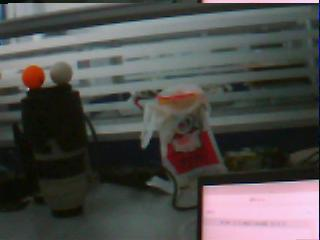oball: (22, 65, 45, 88)
